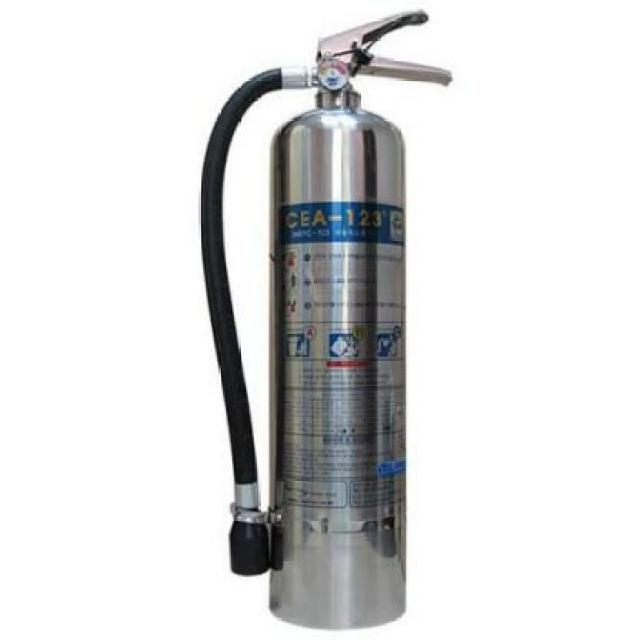fire extinguisher: (198, 8, 451, 630)
